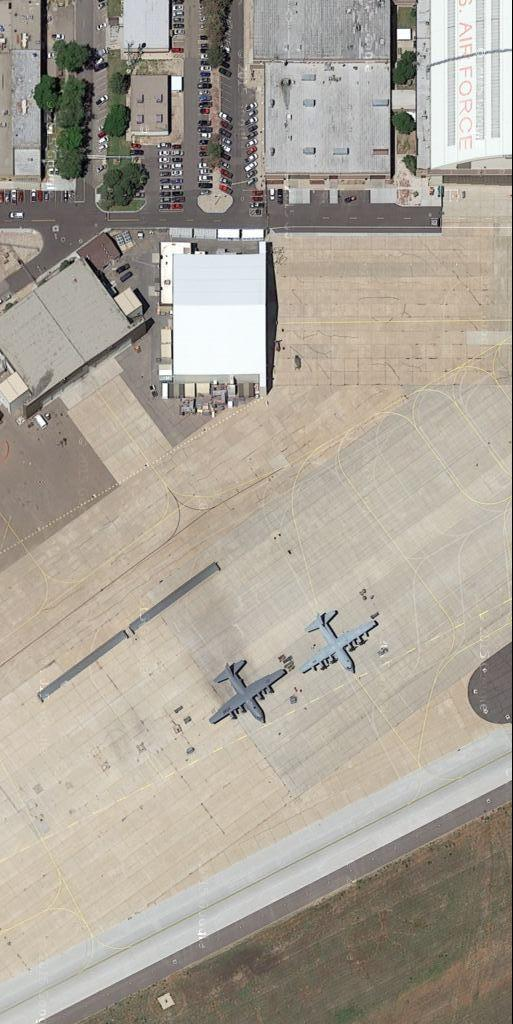C-130: (204, 654, 292, 729), (297, 604, 380, 681)
